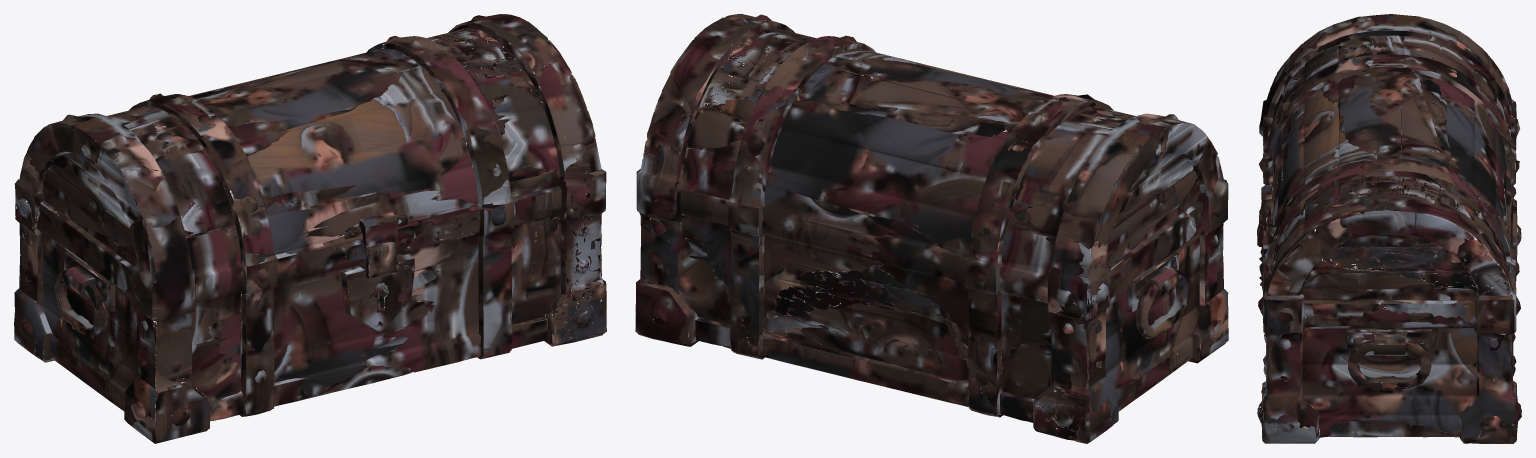
Rendered from Cofre.fbx.
3 renders of one model, left to right at view 1: azimuth 30°, elevation 25°; view 2: azimuth 150°, elevation 25°; view 3: azimuth 270°, elevation 25°, orthographic. The views are drawn at different scales.
Visible parts, largest first — view 1: Cofre; view 2: Cofre; view 3: Cofre.
Part boxes in pixels (bbox=[...]): Cofre: bbox=[14, 14, 606, 443]; Cofre: bbox=[635, 14, 1228, 443]; Cofre: bbox=[1257, 14, 1521, 443].
Bounding box in the file's own units: 101 × 53.78 × 53.99.
